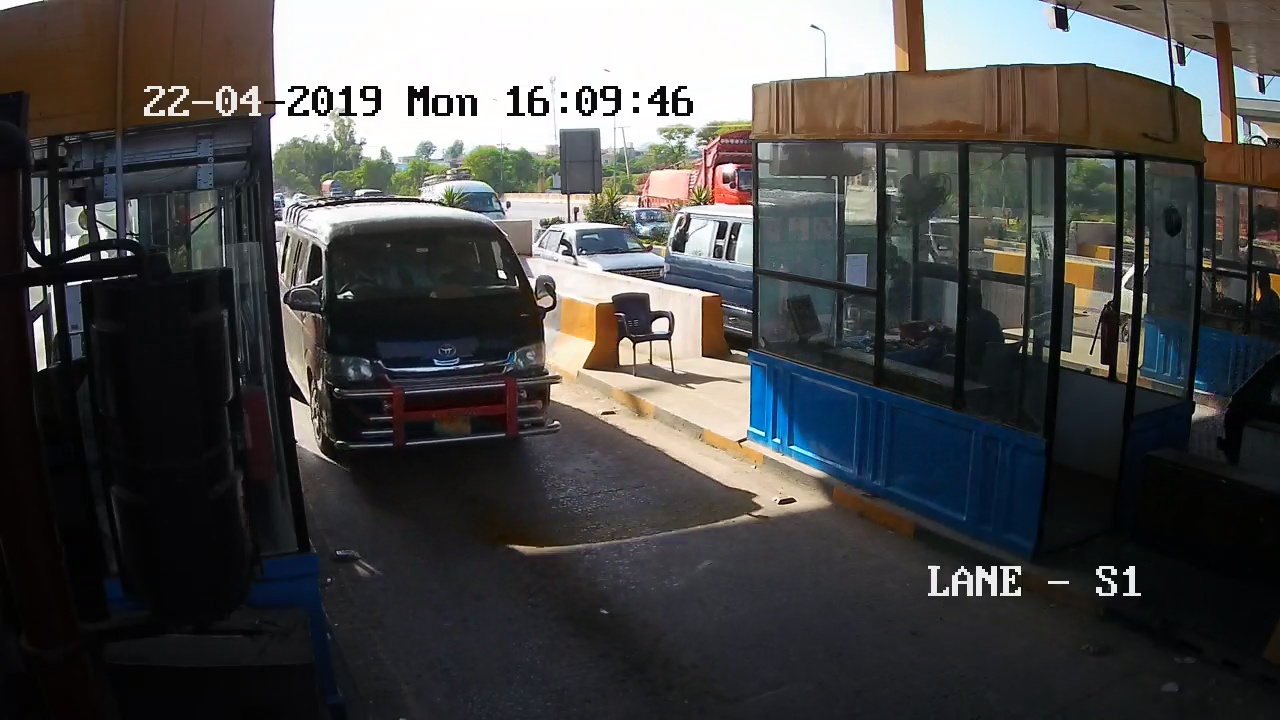Number Plate (Car): (433, 418, 473, 436)
